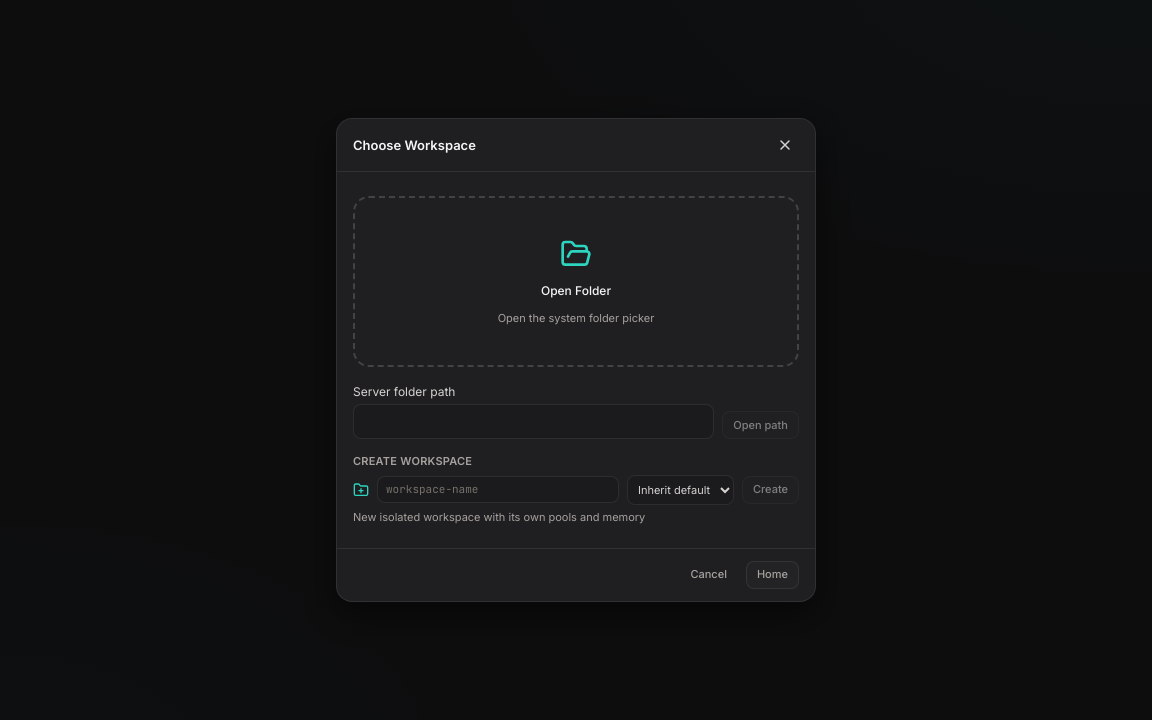
WorkspaceBrowser › open folder picker › shows network error on non-503 API errors
Click the text "Open Folder" at coordinates (576, 291), box [541, 282, 611, 300]
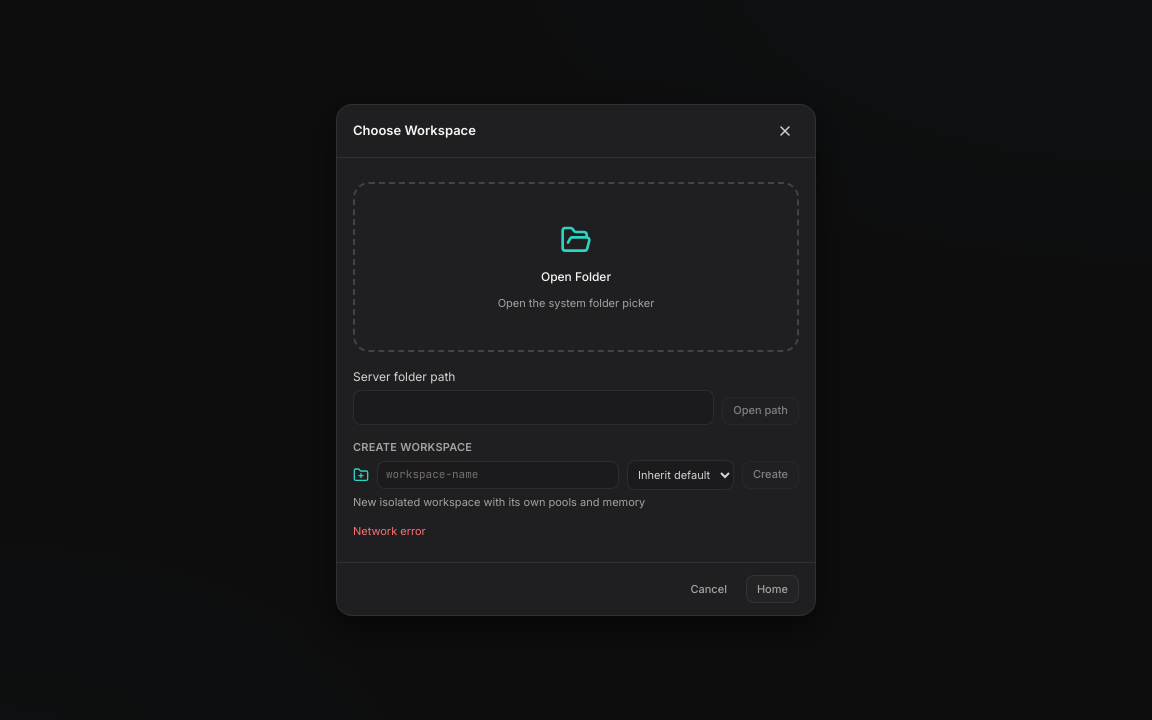
Expected: the text "Network error" is shown, [353, 524, 426, 538]
